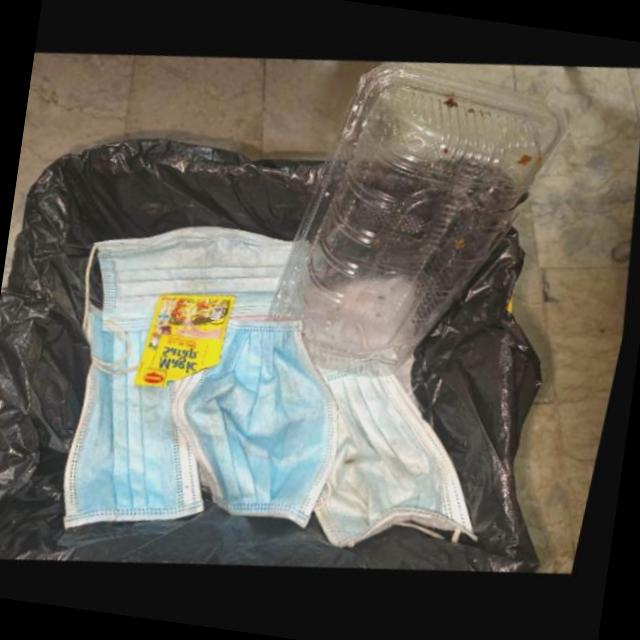goi_nhua_nho: (140, 292, 241, 387)
hop_nhua: (270, 62, 570, 375)
khau_trang: (179, 321, 341, 529), (71, 305, 213, 531), (87, 226, 296, 367), (321, 371, 485, 548)
